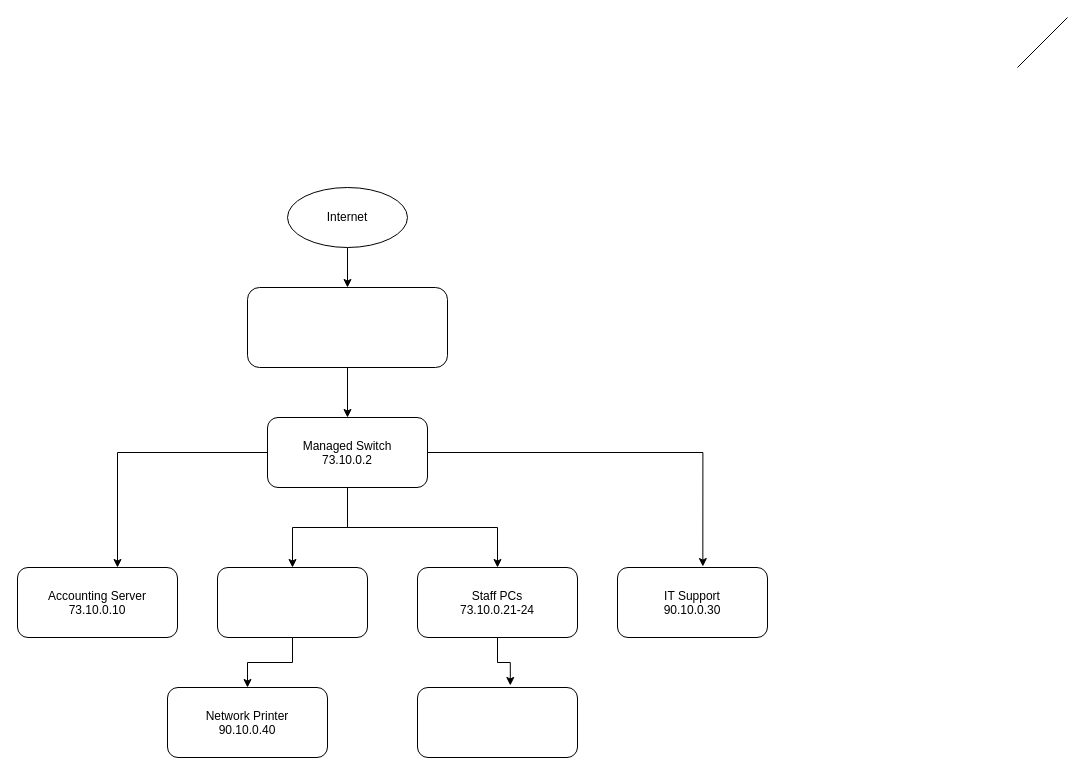
Image size: 1086x775. Some labels were removed from this diagram. Each missing label, with the centre of its shape:
Backup Server 90.10.0.50: pixel 497 722
Manager PC 73.10.0.20: pixel 292 602
OpenWRT Router 73.10.0.1 Firewall + NAT: pixel 347 327
